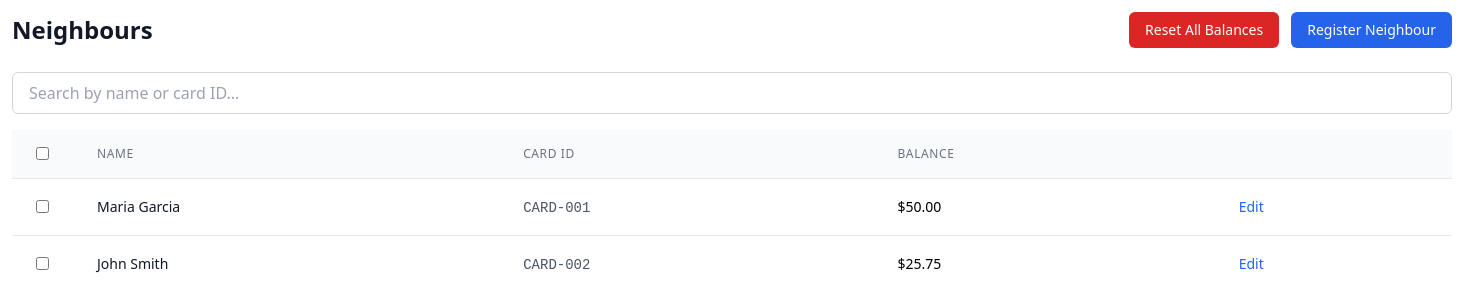
Test: NeighbourListPage › select all selects all visible rows
The width and height of the screenshot is (1464, 290).
Click the checkbox with test id "select-all-checkbox": (42, 154) [36,147,49,160]
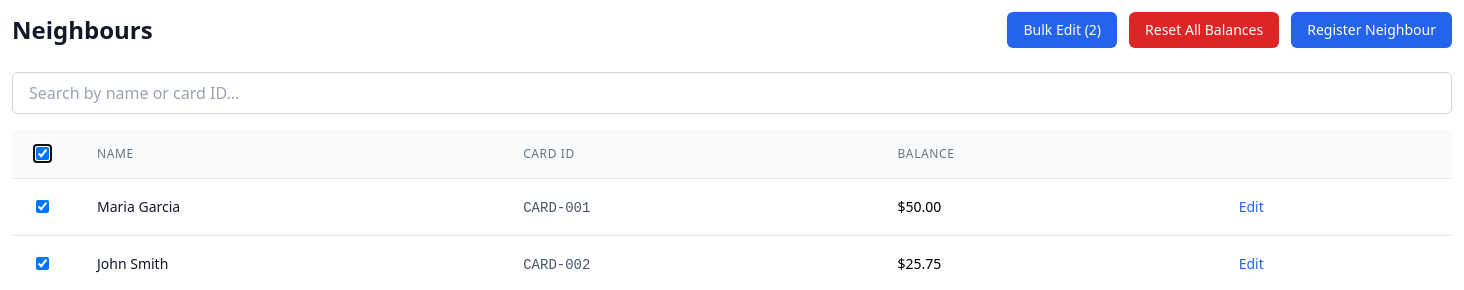
Now the button with test id "bulk-edit-button" reads "Bulk Edit (2)", box [1008,12,1117,48]
